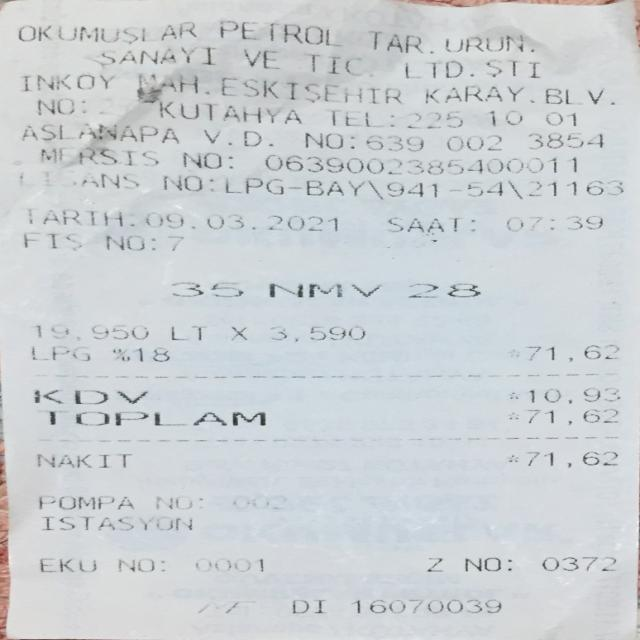text: (262, 154, 582, 174), (220, 76, 402, 105), (146, 207, 348, 232), (13, 18, 195, 44), (49, 406, 263, 428), (23, 119, 175, 147), (217, 20, 340, 47), (394, 174, 506, 201), (401, 59, 540, 79), (12, 168, 138, 190), (160, 104, 298, 124), (96, 44, 217, 66), (535, 176, 629, 204), (36, 146, 158, 166), (421, 82, 524, 104), (34, 322, 147, 342), (42, 514, 179, 530), (506, 212, 601, 235), (28, 206, 118, 229), (357, 598, 500, 612), (268, 280, 379, 298), (441, 31, 526, 54), (16, 71, 113, 91), (269, 322, 364, 342), (524, 342, 622, 361), (33, 388, 146, 404), (203, 122, 270, 148), (36, 492, 132, 510), (306, 172, 365, 199), (525, 408, 617, 425), (34, 452, 131, 468), (387, 211, 457, 233), (540, 554, 614, 574), (303, 54, 364, 77), (523, 451, 616, 466), (137, 72, 200, 94), (524, 387, 618, 401), (229, 170, 277, 197), (407, 280, 479, 298), (22, 229, 80, 251), (172, 280, 241, 298), (528, 132, 604, 148), (541, 87, 604, 106), (367, 30, 422, 51), (159, 170, 202, 196), (446, 133, 501, 153), (404, 110, 460, 129), (366, 134, 424, 152), (180, 146, 219, 172), (193, 557, 263, 571), (32, 344, 86, 362), (111, 346, 170, 362), (232, 492, 288, 508), (196, 598, 251, 614), (242, 47, 277, 71), (166, 322, 208, 342), (328, 110, 377, 126), (36, 557, 91, 571), (35, 98, 74, 117), (104, 231, 139, 252), (309, 125, 338, 150), (463, 554, 499, 574), (487, 108, 522, 128), (153, 492, 188, 510), (543, 111, 577, 128), (290, 598, 331, 612), (208, 171, 224, 196), (294, 172, 310, 197), (118, 557, 146, 571), (368, 173, 383, 199), (350, 126, 363, 151), (230, 322, 246, 342), (425, 554, 440, 574), (222, 148, 230, 172), (507, 450, 517, 467), (504, 348, 521, 357), (504, 411, 519, 421), (150, 231, 157, 252), (173, 233, 180, 253), (154, 557, 164, 571), (507, 391, 520, 401), (388, 111, 393, 129), (470, 211, 473, 234), (506, 554, 509, 574)
